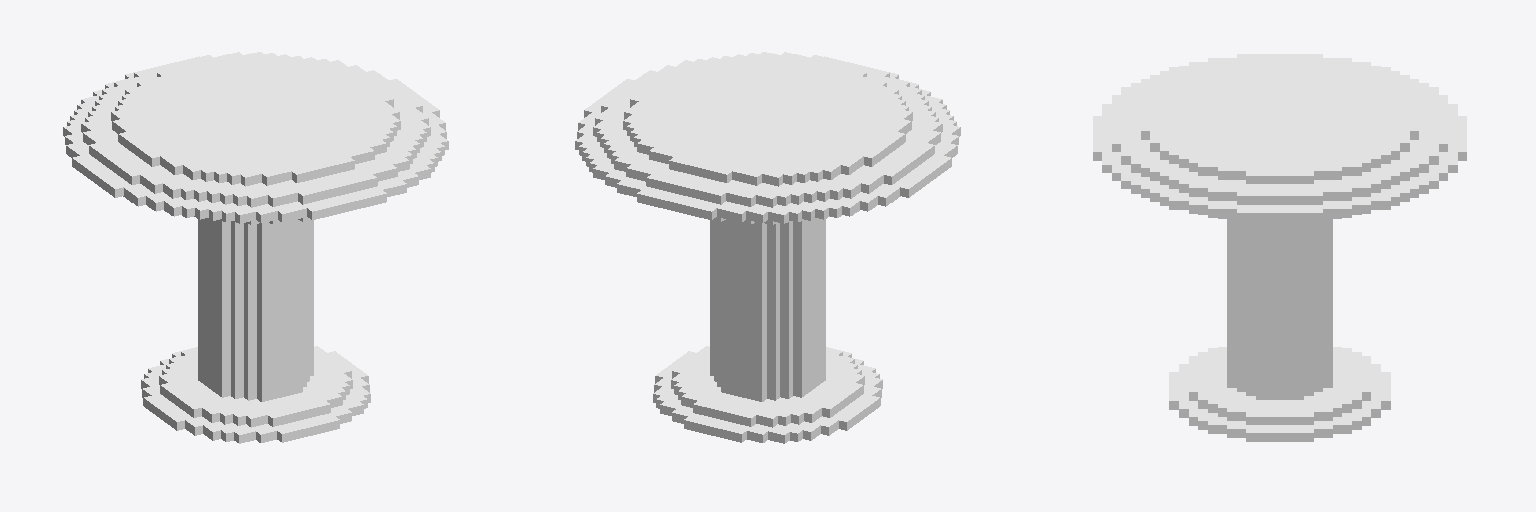
The model's file is Prison_Stool.obj.
The picture shows the model from 3 angles: view 1: azimuth 30°, elevation 25°; view 2: azimuth 150°, elevation 25°; view 3: azimuth 270°, elevation 25°; orthographic projection.
Size of the model in its own units: 39 by 32 by 39.